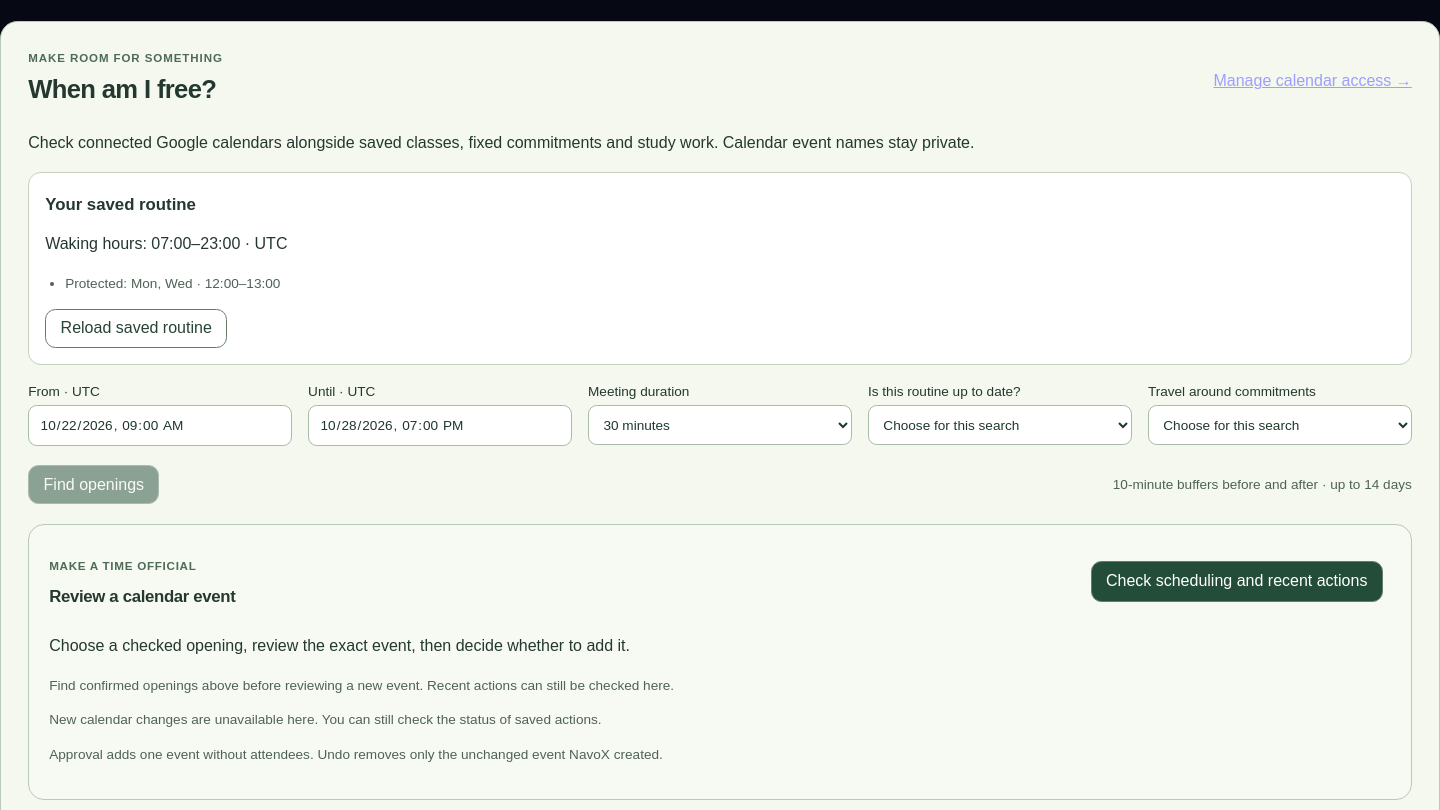
Test: private calendar connection and availability screens › expires displayed times and clears a previous result when search assumptions change
Select "Yes, use these hours" in the dropdown labelled "Is this routine up to date?": (1000, 425) top-left (868, 405), bottom-right (1132, 445)
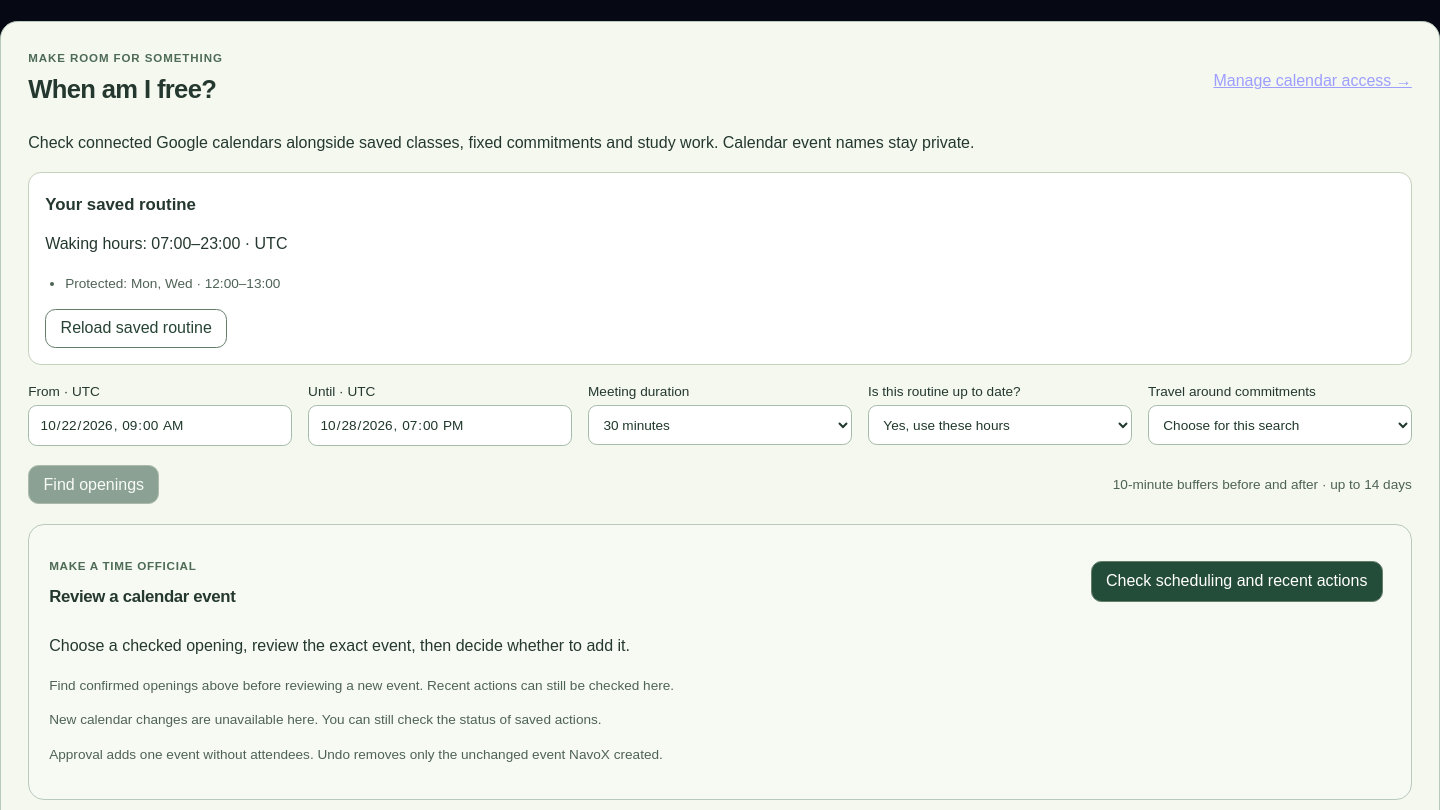
Select "Assume no extra travel for this search" in the dropdown labelled "Travel around commitments": (1280, 425) top-left (1148, 405), bottom-right (1412, 445)
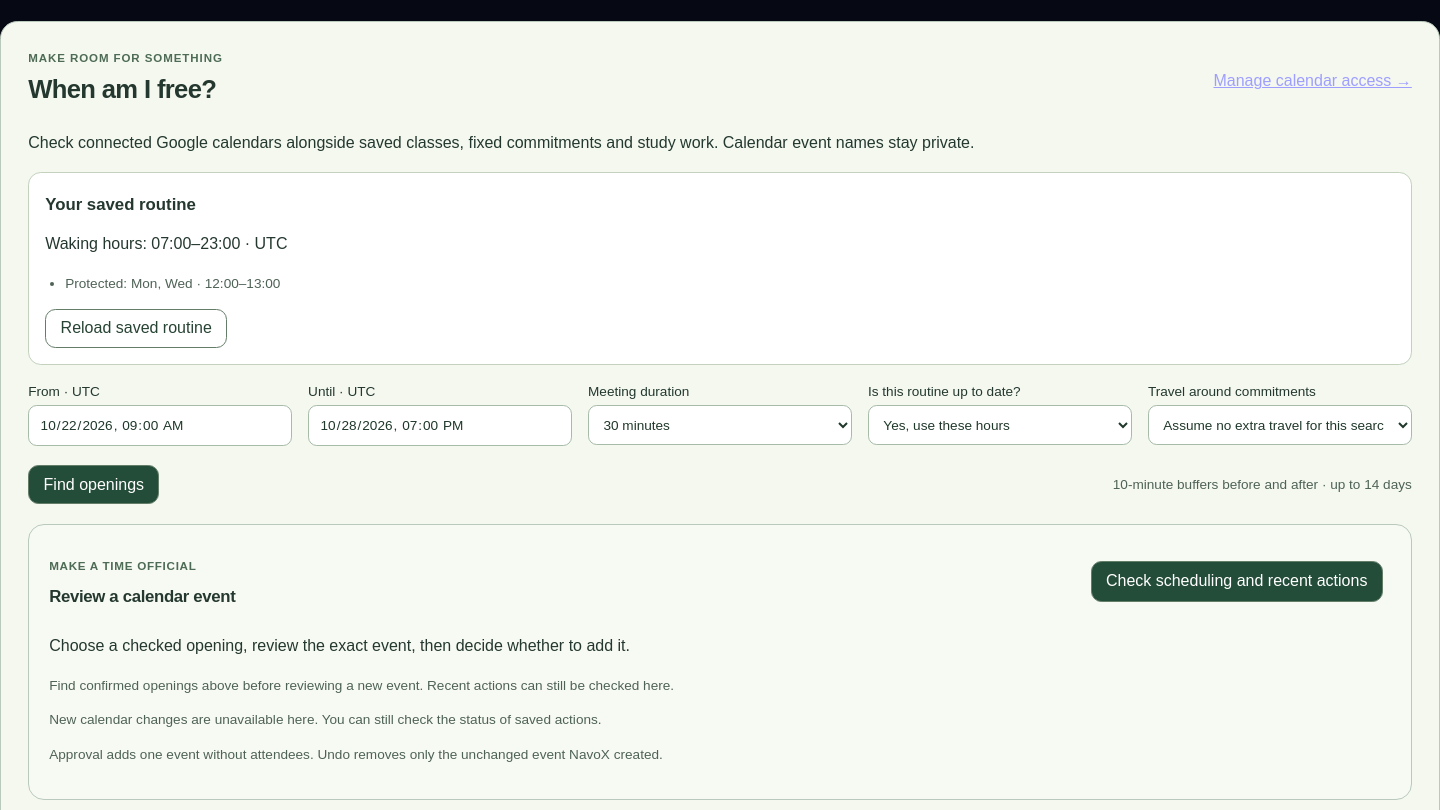
Click the button "Find openings": (94, 484) top-left (28, 465), bottom-right (160, 504)
Wait 60000 ms
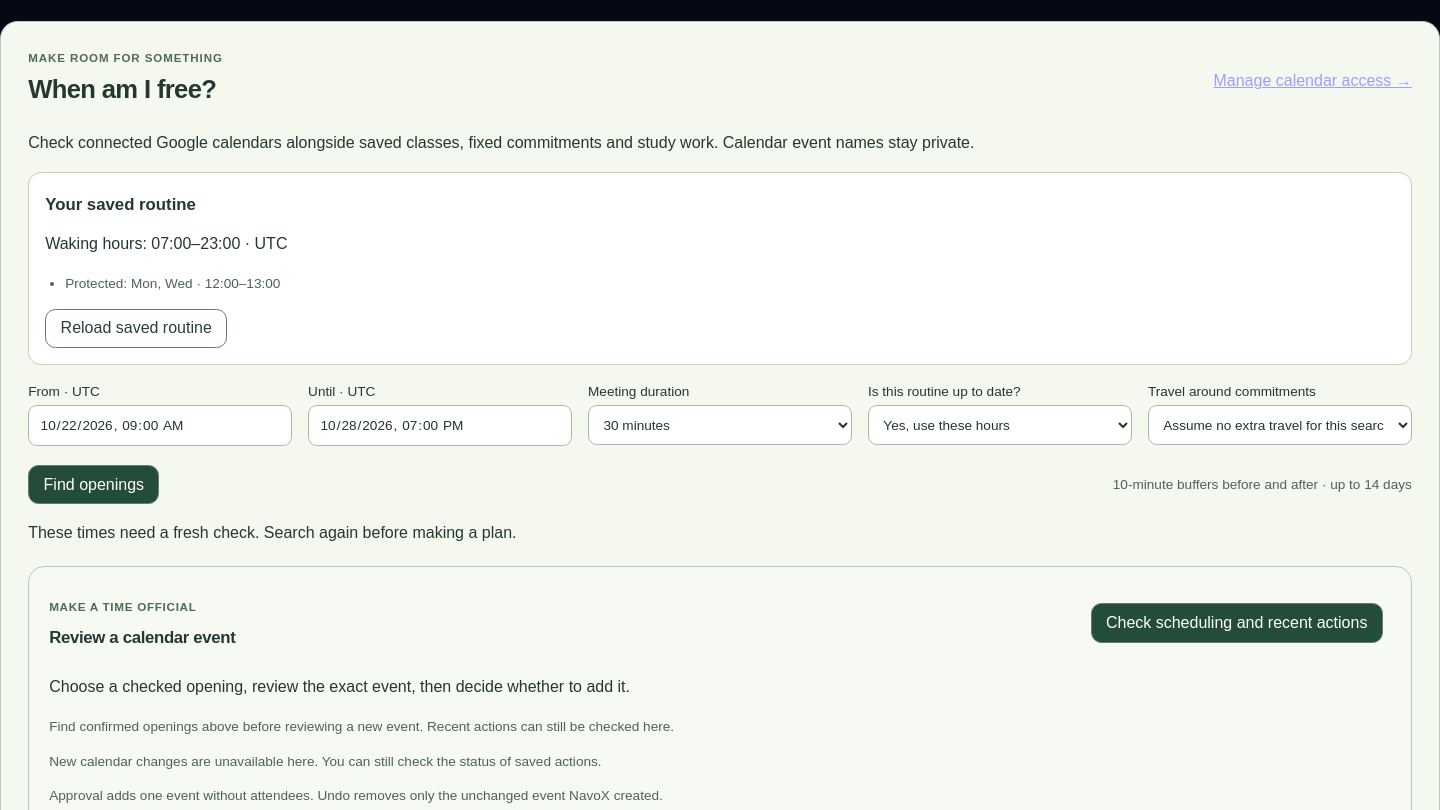
Expected: the text "One time fits" is not shown
Now the text "These times need a fresh check" is shown, box top-left (28, 524), bottom-right (516, 541)
Click the button "Find openings": (94, 484) top-left (28, 465), bottom-right (160, 504)
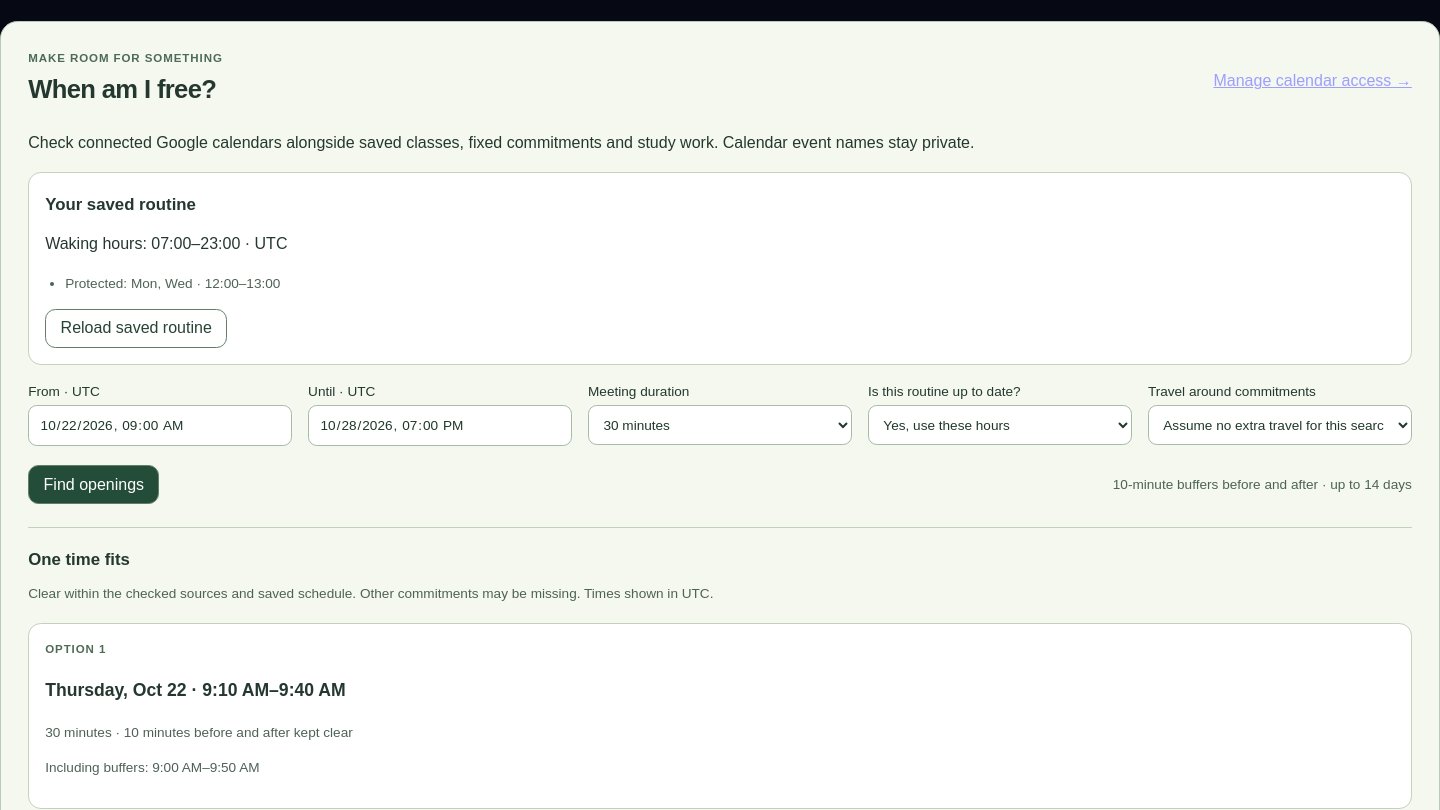
Now the text "One time fits" is shown, box top-left (28, 550), bottom-right (130, 569)
Select "15 minutes" in the dropdown labelled "Meeting duration": (720, 425) top-left (588, 405), bottom-right (852, 445)
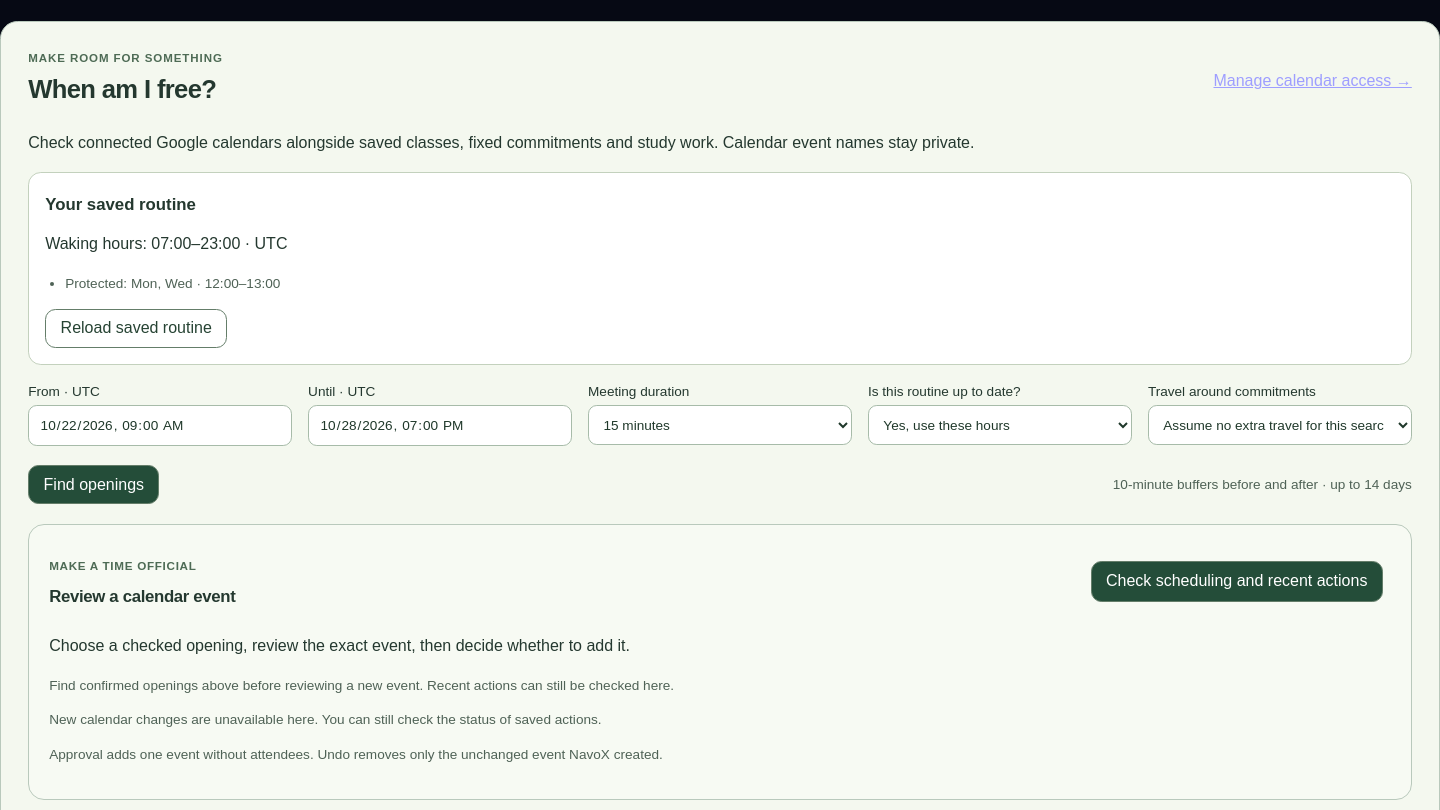
Now the text "One time fits" is gone
